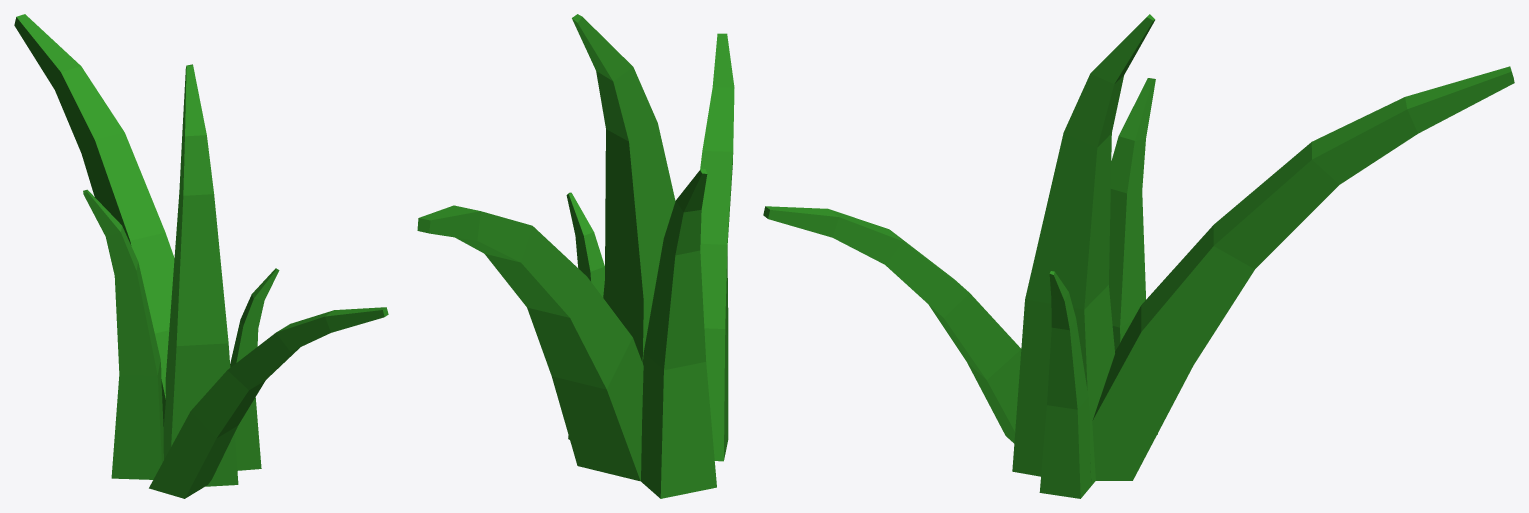
The model's file is grass.fbx.
3 renders of one model, left to right at view 1: azimuth 30°, elevation 25°; view 2: azimuth 150°, elevation 25°; view 3: azimuth 270°, elevation 25°, orthographic. The views are drawn at different scales.
Visible parts, largest first — view 1: Cube.001, Cube, Cube.002, Cube.003, Cube.004; view 2: Cube, Cube.002, Cube.001, Cube.003, Cube.004; view 3: Cube, Cube.001, Cube.003, Cube.004, Cube.002.
Boxes of the visible parts, box(x1,y1,x2,y2) form: Cube.001: box(163, 64, 238, 486); Cube: box(14, 14, 174, 426); Cube.002: box(83, 189, 163, 479); Cube.003: box(149, 307, 388, 498); Cube.004: box(230, 268, 279, 470); Cube: box(417, 205, 643, 481); Cube.002: box(641, 169, 716, 498); Cube.001: box(572, 14, 675, 362); Cube.003: box(700, 33, 734, 461); Cube.004: box(566, 192, 604, 439); Cube: box(1092, 66, 1514, 480); Cube.001: box(1012, 14, 1155, 485); Cube.003: box(763, 206, 1021, 443); Cube.004: box(1039, 271, 1093, 498); Cube.002: box(1109, 78, 1157, 434).
Bounding box in the file's own units: 598 × 1390 × 2053.
